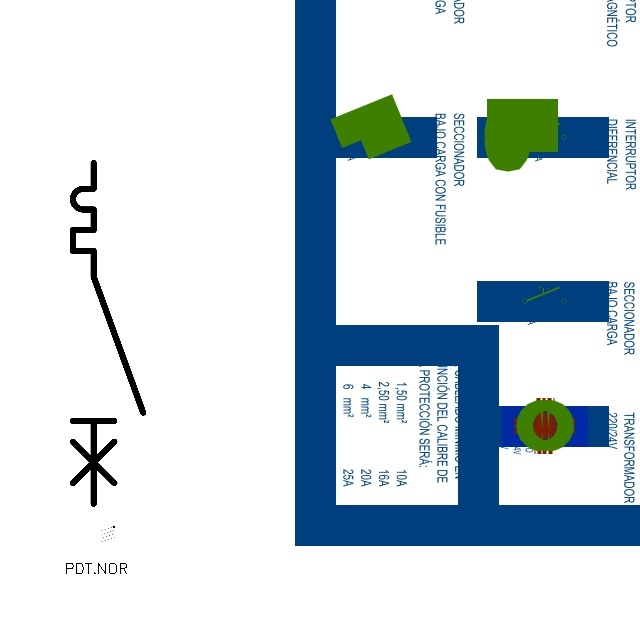interruptor_termomagnetico: (64, 154, 151, 512)
